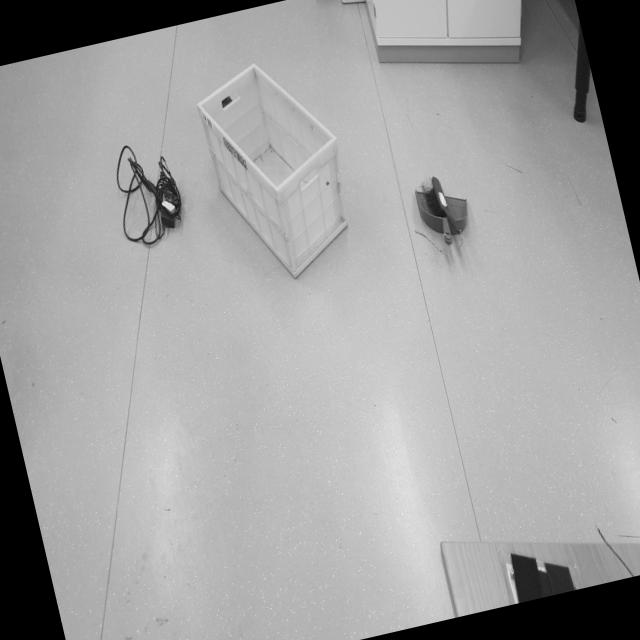box: (185, 45, 370, 304)
